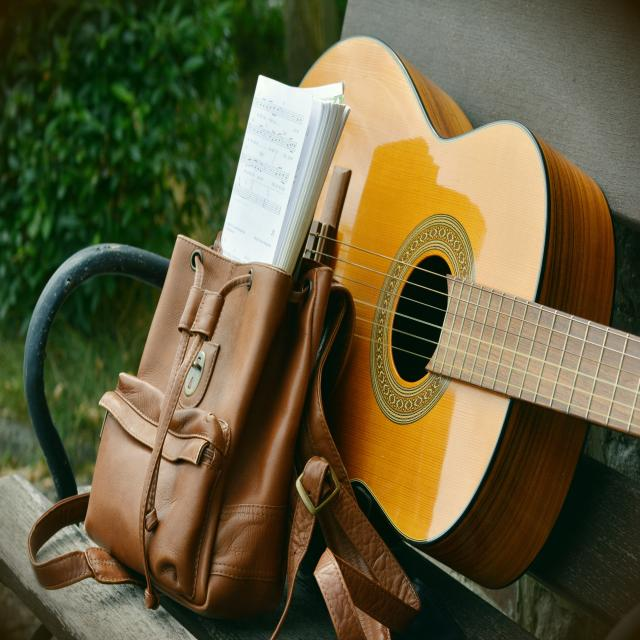backpack: (80, 235, 415, 640)
